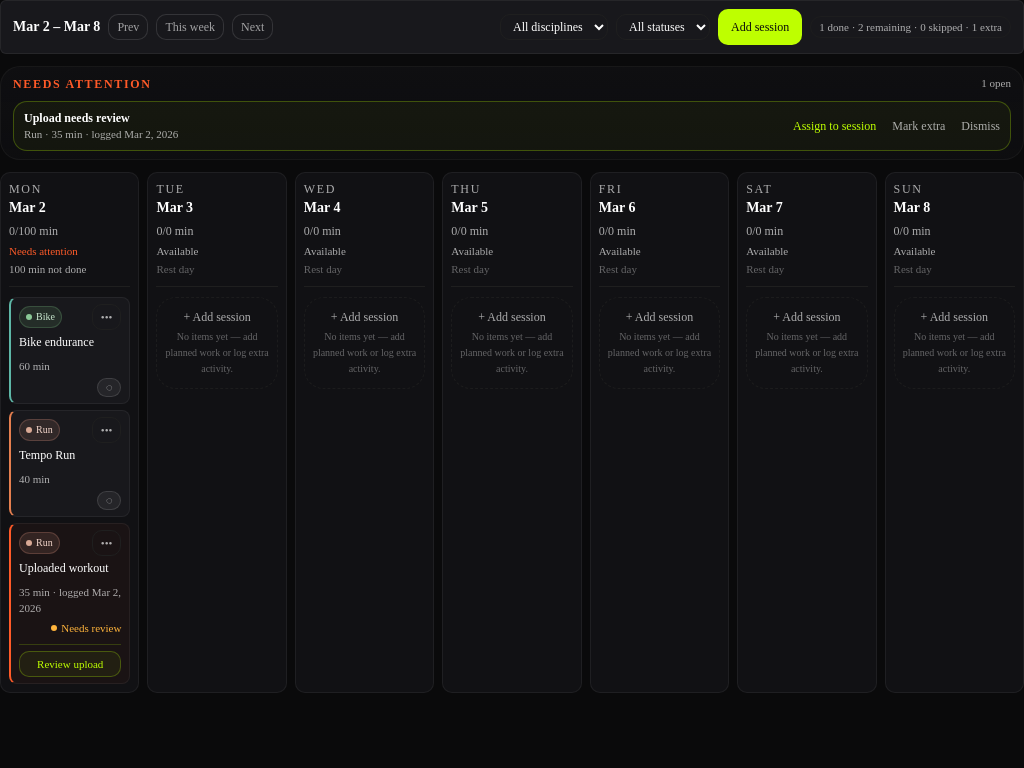
Scenario: WeekCalendar › prefers a same-day same-sport session when opening upload assignment from the sidebar
This screenshot has width=1024, height=768.
Click the button "Assign to session" at (835, 126), box x1=793 y1=118 x2=876 y2=134
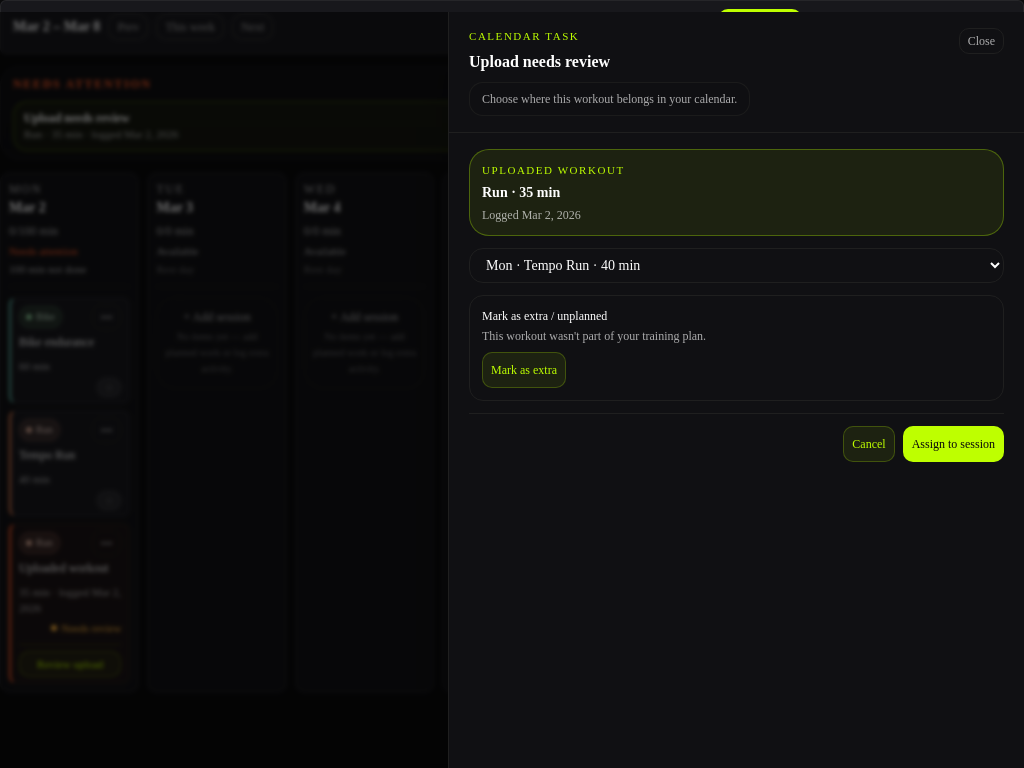
Result: the dropdown shows "Mon · Tempo Run · 40 min" at x1=469 y1=248 x2=1004 y2=283
